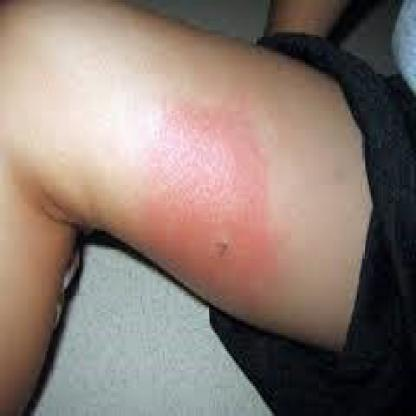Wasp: (170, 157, 258, 282)
